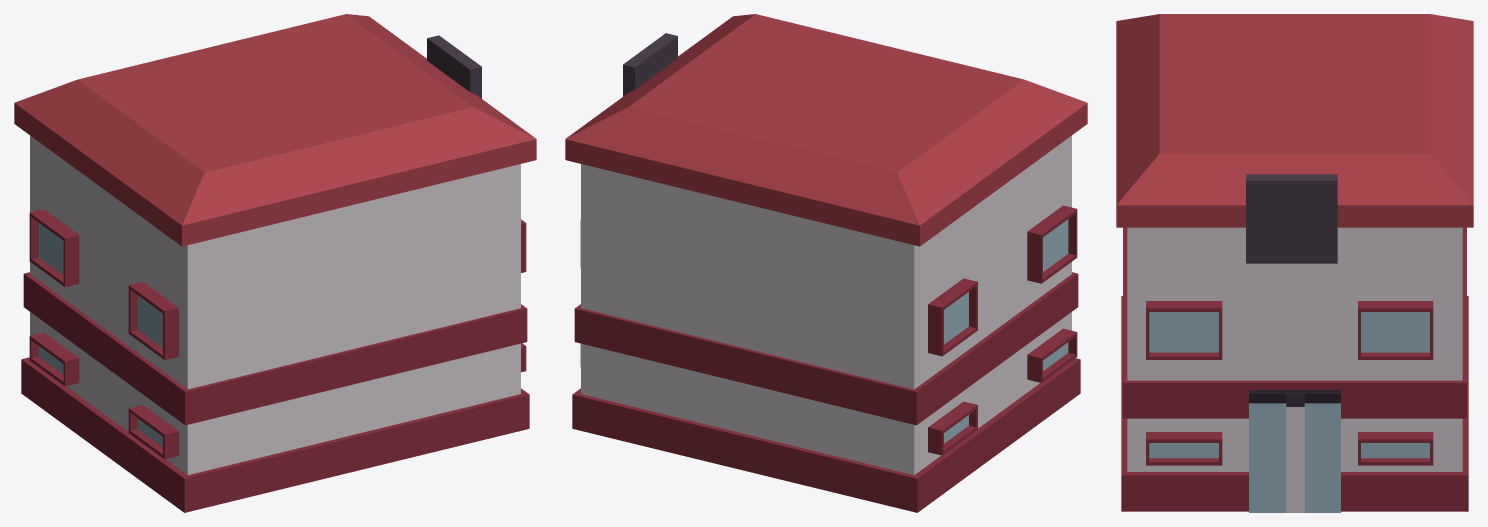
File: eczane.fbx
3 views of the same model, side by side, from view 1: azimuth 30°, elevation 25°; view 2: azimuth 150°, elevation 25°; view 3: azimuth 270°, elevation 25° (orthographic). The views are drawn at different scales.
Visible parts, largest first — view 1: Plane, Tabela; view 2: Plane, Tabela; view 3: Plane, Kapı, Tabela.
Part boxes in pixels (x1,y1,x2,y2): Plane: (14, 14, 536, 512); Tabela: (427, 35, 481, 98); Plane: (565, 14, 1087, 512); Tabela: (623, 33, 677, 96); Plane: (1116, 14, 1473, 511); Kapı: (1249, 390, 1340, 512); Tabela: (1246, 174, 1337, 263).
Size of the model in its own units: 984 by 813 by 779.
1 material, 1 textured.
